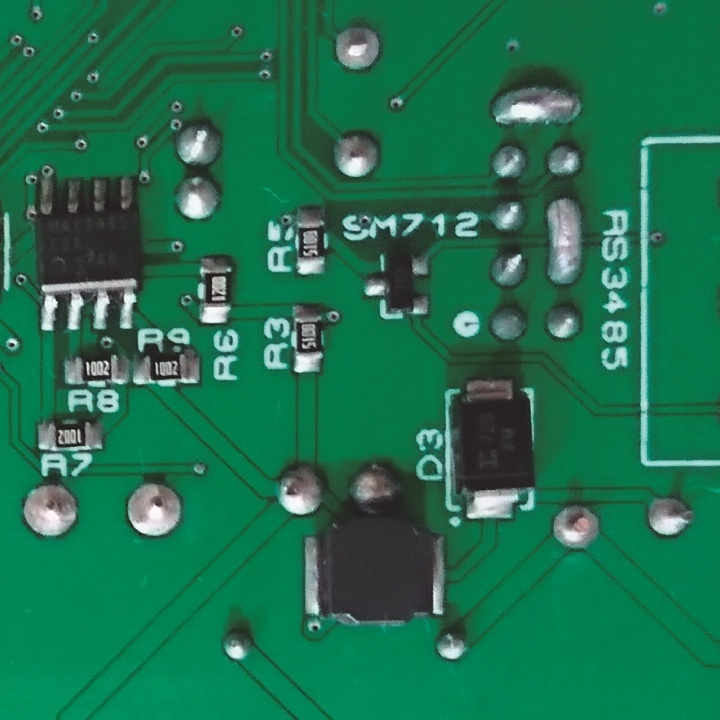F: (121, 478, 187, 539), (18, 479, 84, 539), (549, 501, 603, 555), (332, 22, 381, 76)
P: (487, 82, 582, 129), (544, 195, 589, 291)
